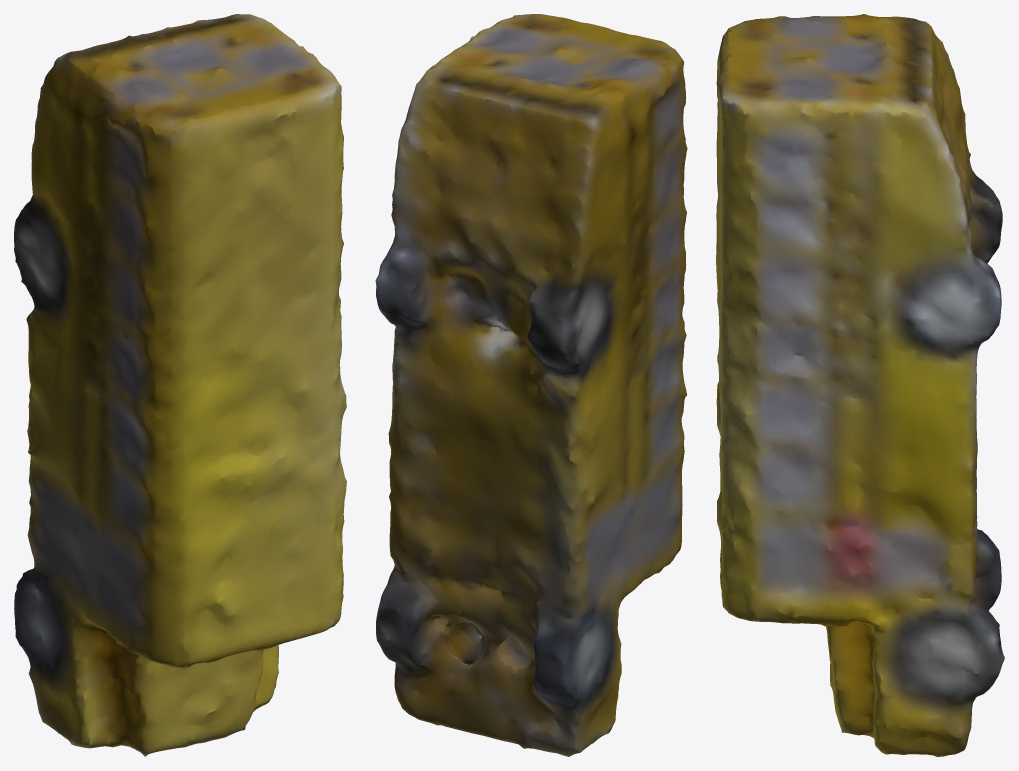
File: school_bus1.glb
3 views of the same model, side by side, from view 1: azimuth 30°, elevation 25°; view 2: azimuth 150°, elevation 25°; view 3: azimuth 270°, elevation 25° (orthographic). The views are drawn at different scales.
Bounding box in the file's own units: 0.3282 × 0.9958 × 0.3917.
